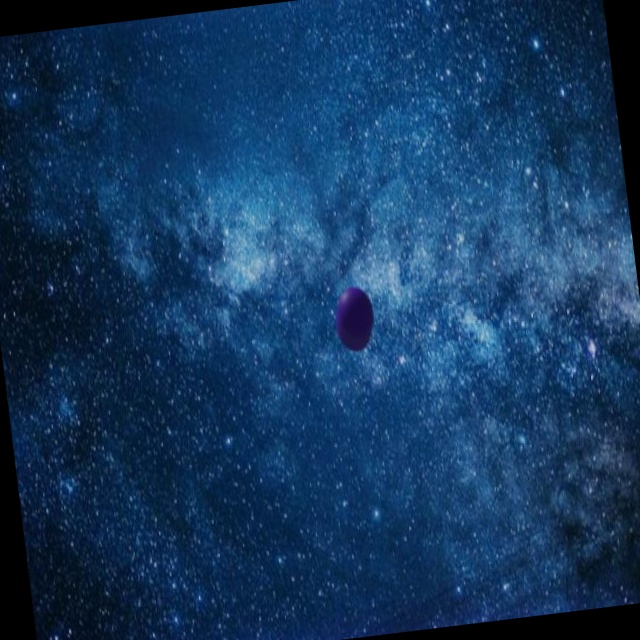large_debris: (328, 282, 379, 359)
